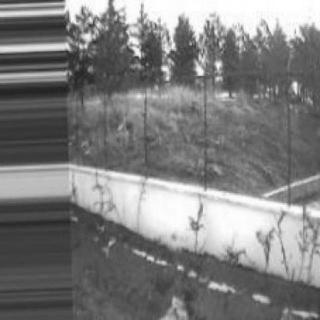Fire: (163, 290, 197, 317)
